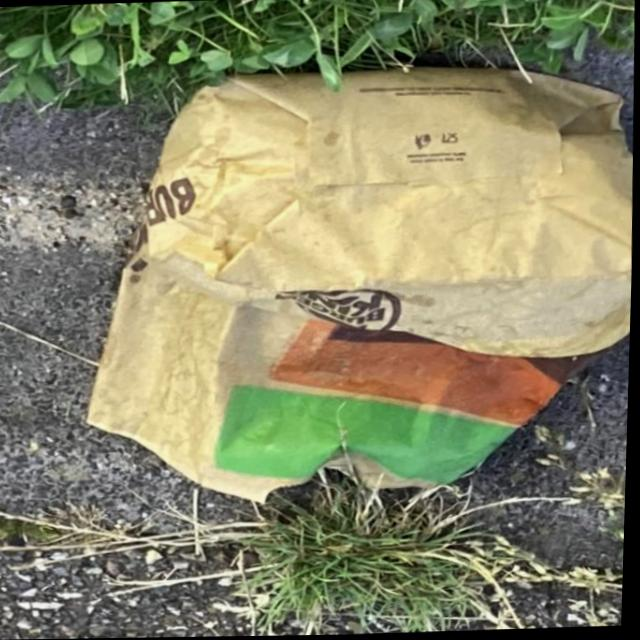Paper: (72, 52, 639, 512)
